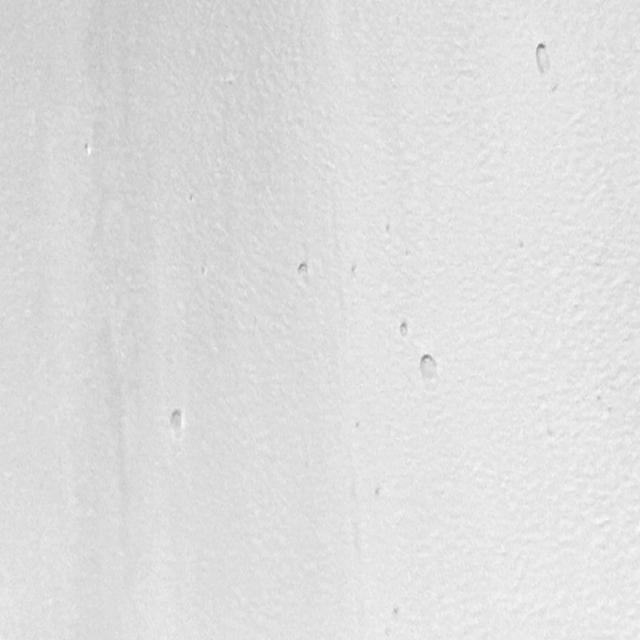pin holes: (530, 40, 554, 90), (416, 351, 442, 392), (166, 407, 189, 439), (294, 258, 315, 284), (395, 317, 414, 342), (392, 605, 406, 624), (347, 262, 361, 279), (82, 139, 94, 158), (382, 222, 396, 238), (187, 191, 200, 207), (372, 484, 382, 503), (353, 415, 363, 433)
